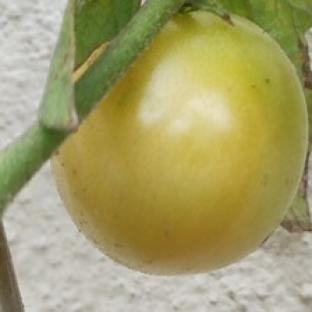Tomato: (53, 12, 307, 274)
